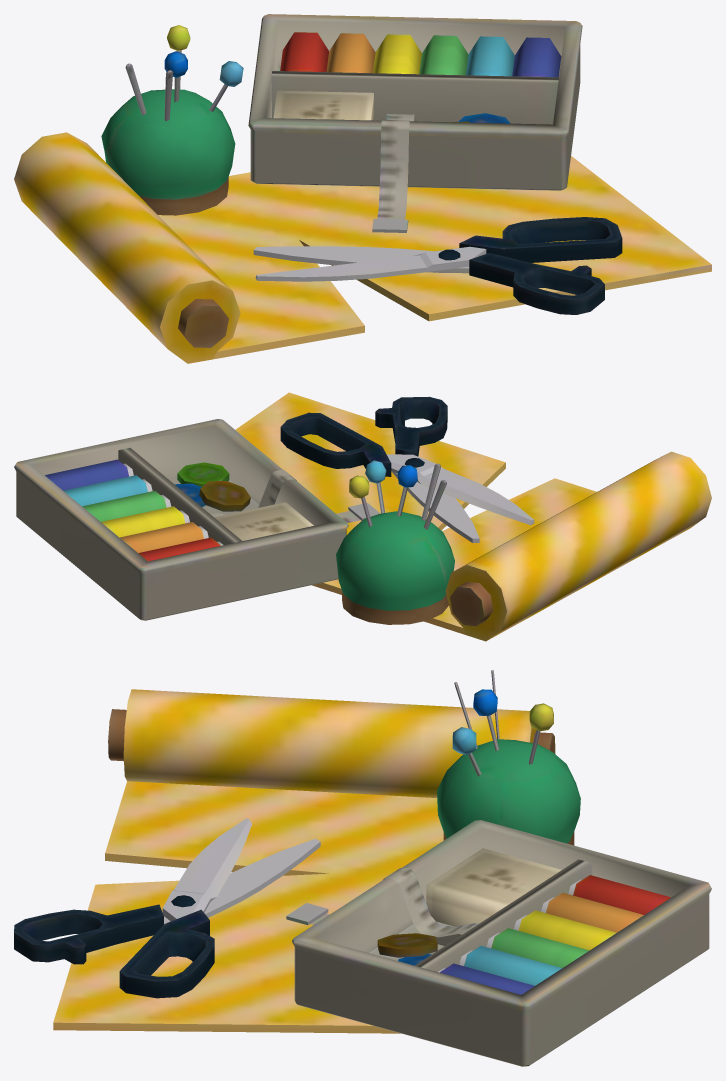
The picture shows the model from 3 angles, top to bottom: view 1: azimuth 30°, elevation 25°; view 2: azimuth 150°, elevation 25°; view 3: azimuth 270°, elevation 25°; orthographic projection. The views are drawn at different scales.
Bounding box in the file's own units: 8.99 × 2.19 × 8.39.
Materials: 1 (1 with a texture image).
